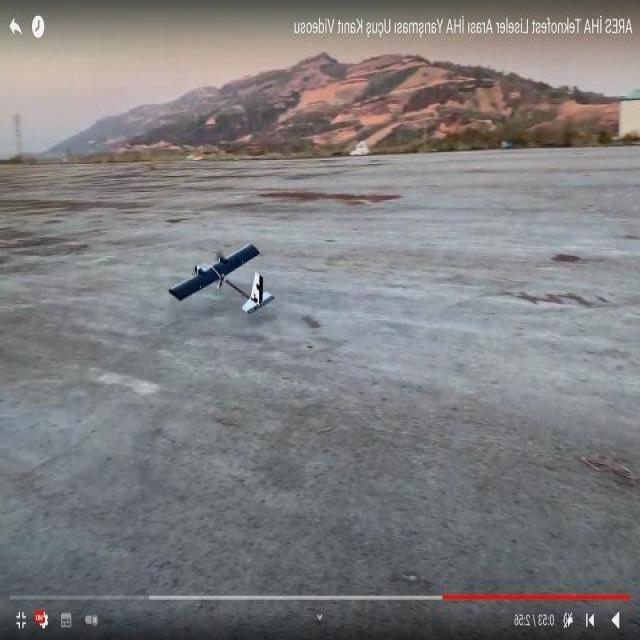iha: (198, 278, 245, 280)
